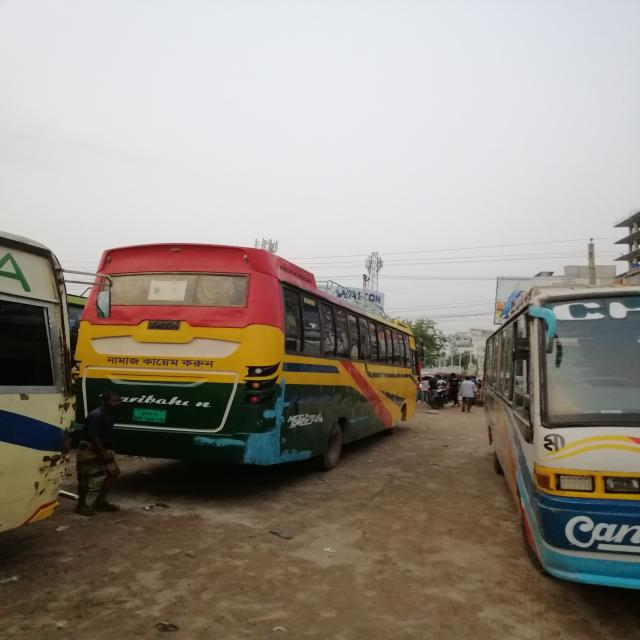Bus: (80, 243, 424, 476)
